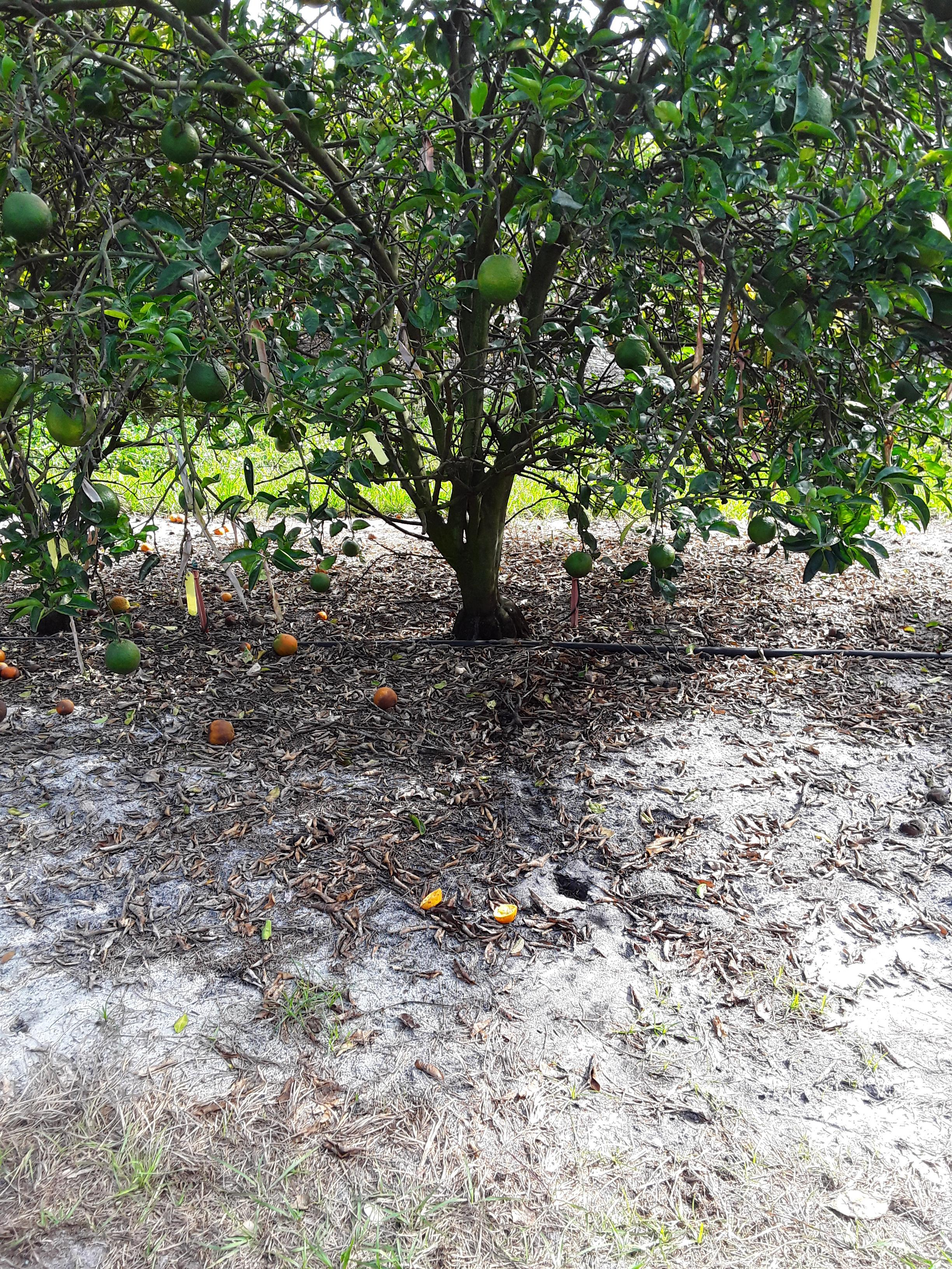fruit_on_ground: (1, 187, 58, 245), (43, 392, 99, 447), (474, 251, 526, 305), (77, 479, 124, 526), (762, 306, 808, 353), (158, 117, 204, 164), (183, 358, 229, 404), (75, 76, 121, 120), (808, 534, 854, 575), (101, 636, 144, 676), (612, 333, 651, 372), (0, 360, 28, 412), (744, 512, 779, 545), (889, 374, 925, 404), (282, 84, 318, 114), (562, 547, 596, 578), (163, 0, 224, 17), (176, 482, 210, 512), (646, 540, 679, 570), (259, 59, 291, 87), (215, 84, 246, 110), (227, 116, 255, 143), (271, 430, 295, 455), (308, 570, 332, 594), (339, 536, 361, 558)
fruit_on_tree: (205, 717, 236, 748), (271, 631, 300, 658), (372, 684, 400, 711), (417, 886, 444, 912), (491, 900, 519, 925), (308, 571, 333, 594), (107, 592, 133, 614), (53, 696, 76, 717), (896, 818, 920, 838), (424, 1062, 446, 1083), (1, 662, 19, 681), (0, 694, 9, 725), (0, 643, 12, 664), (137, 540, 154, 554), (314, 609, 329, 622), (219, 590, 233, 603), (213, 526, 224, 537), (366, 531, 378, 541), (168, 513, 179, 523), (176, 513, 186, 524), (220, 523, 232, 532)
